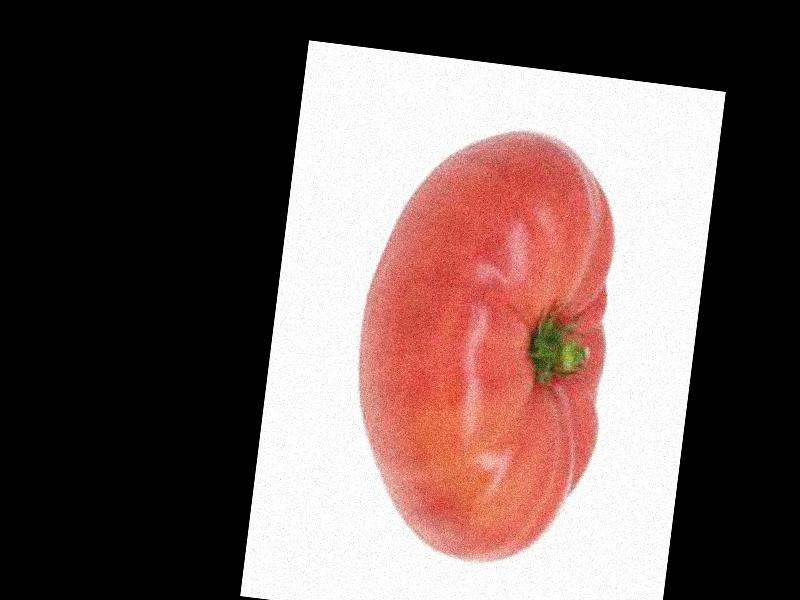Tomato: (337, 116, 627, 574)
